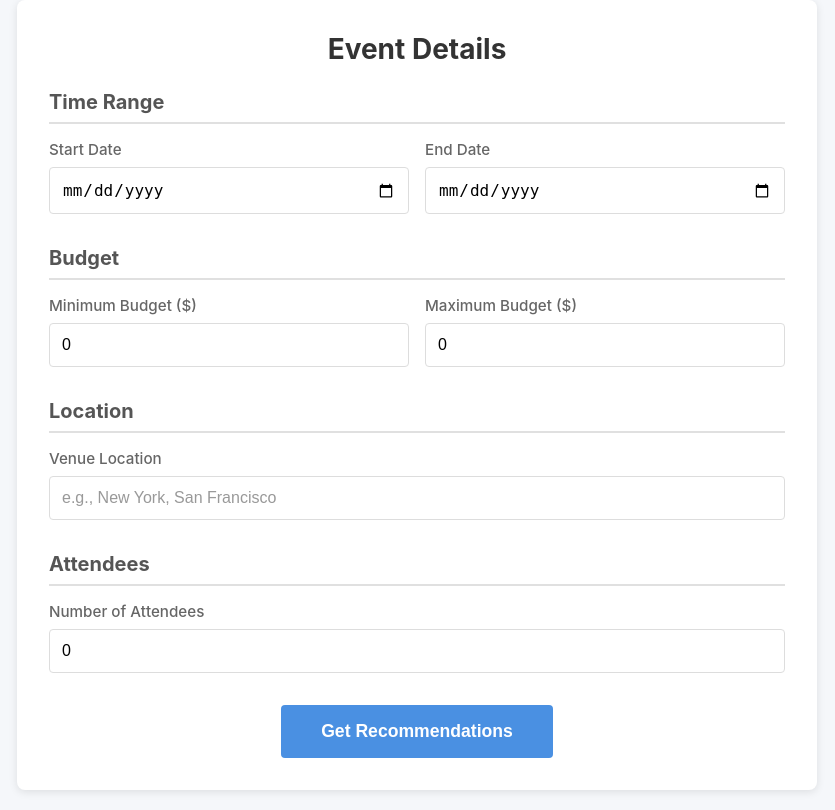
Test: BudgetInputForm › Form Validation › should clear error when invalid field is corrected
The width and height of the screenshot is (835, 810).
// Set invalid date range
Type "2024-06-10" into the date field labelled "Start Date" at (229, 190), box [49,167,409,214]
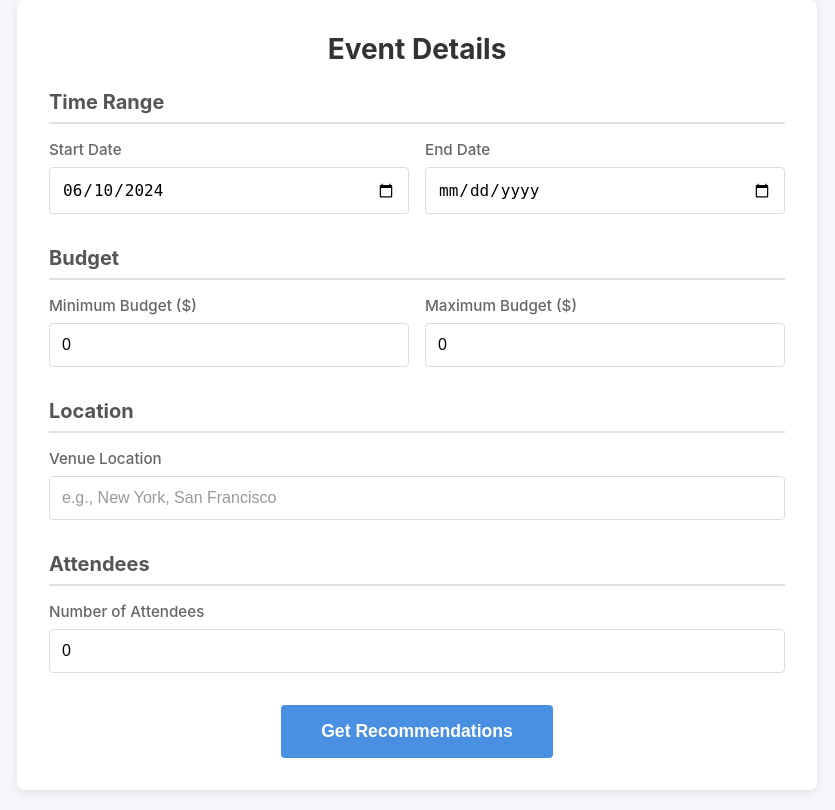
Type "2024-06-05" into the date field labelled "End Date" at (605, 190), box [425,167,785,214]
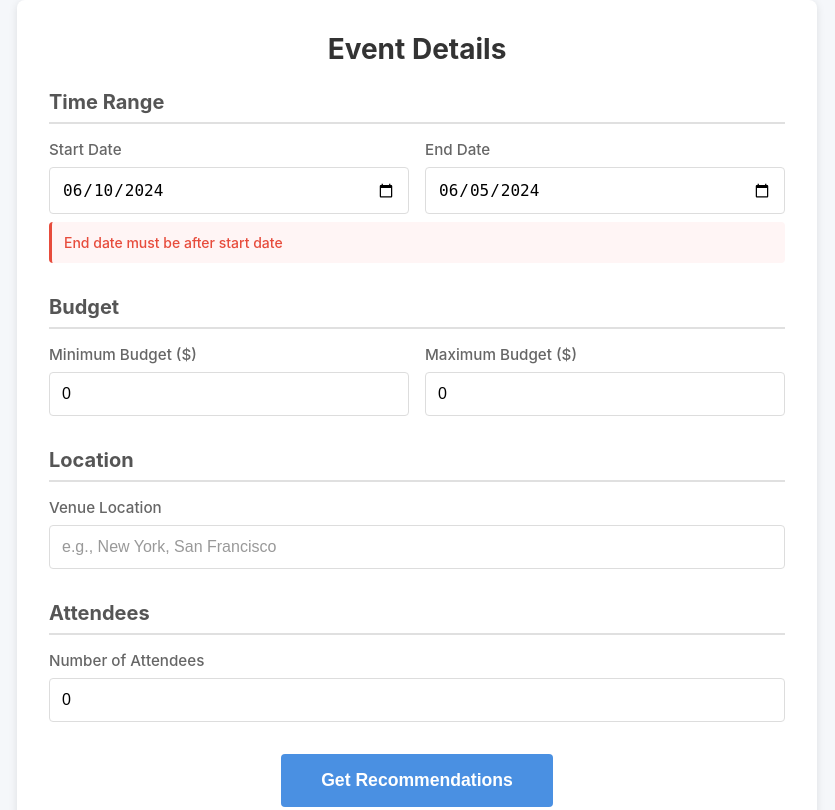
Expected: the text "End date must be after start date" is shown, [49,222,785,263]
// Correct the end date
Type "2024-06-15" into the date field labelled "End Date" at (605, 190), box [425,167,785,214]
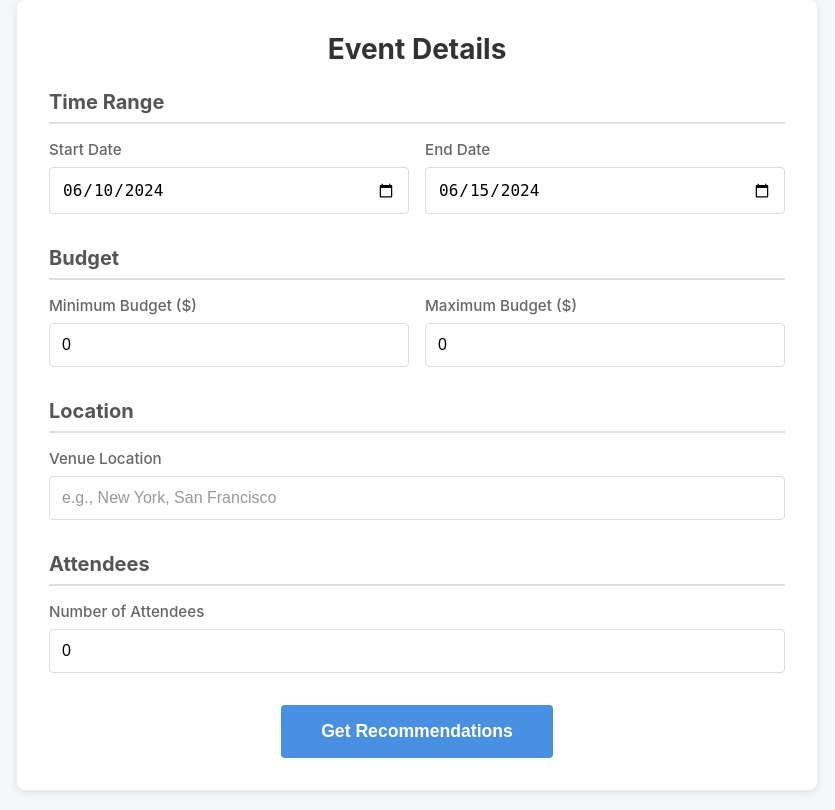
Expected: the text "End date must be after start date" is gone
